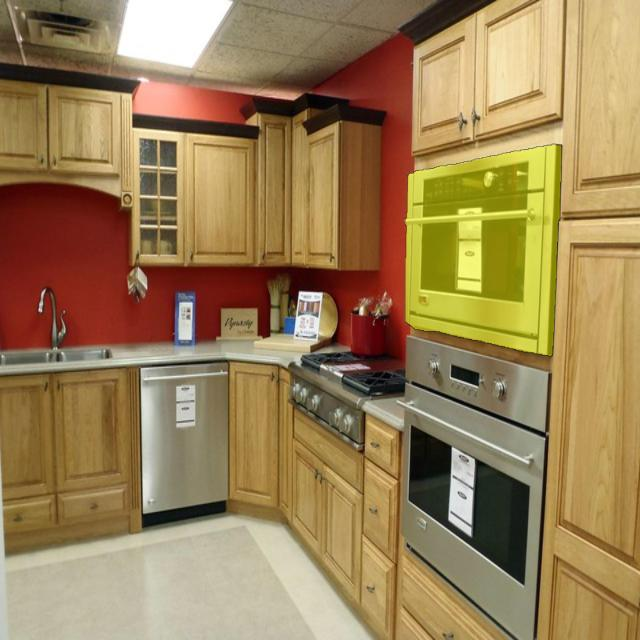dishwasher: (140, 366, 228, 513)
